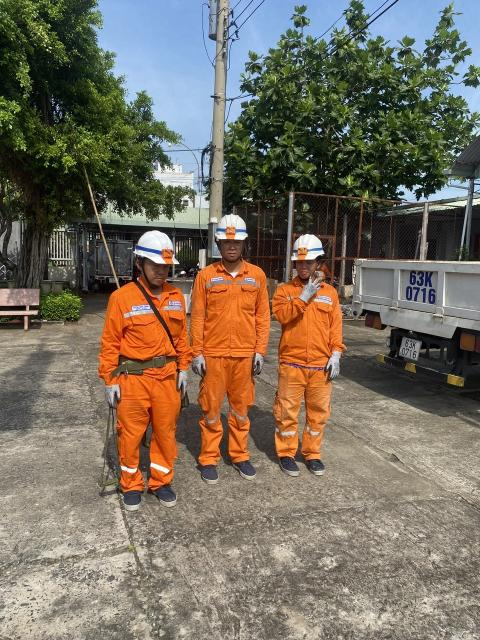gloves: (95, 371, 139, 411), (320, 342, 348, 387), (189, 341, 217, 378), (171, 364, 194, 408), (247, 346, 271, 377)
harness: (115, 349, 181, 372)
helmet: (135, 229, 188, 272), (288, 231, 339, 265), (209, 212, 258, 245)
shoes: (190, 447, 230, 493), (276, 451, 314, 489), (232, 445, 259, 488), (112, 480, 148, 508), (310, 450, 338, 484), (157, 476, 178, 518)
